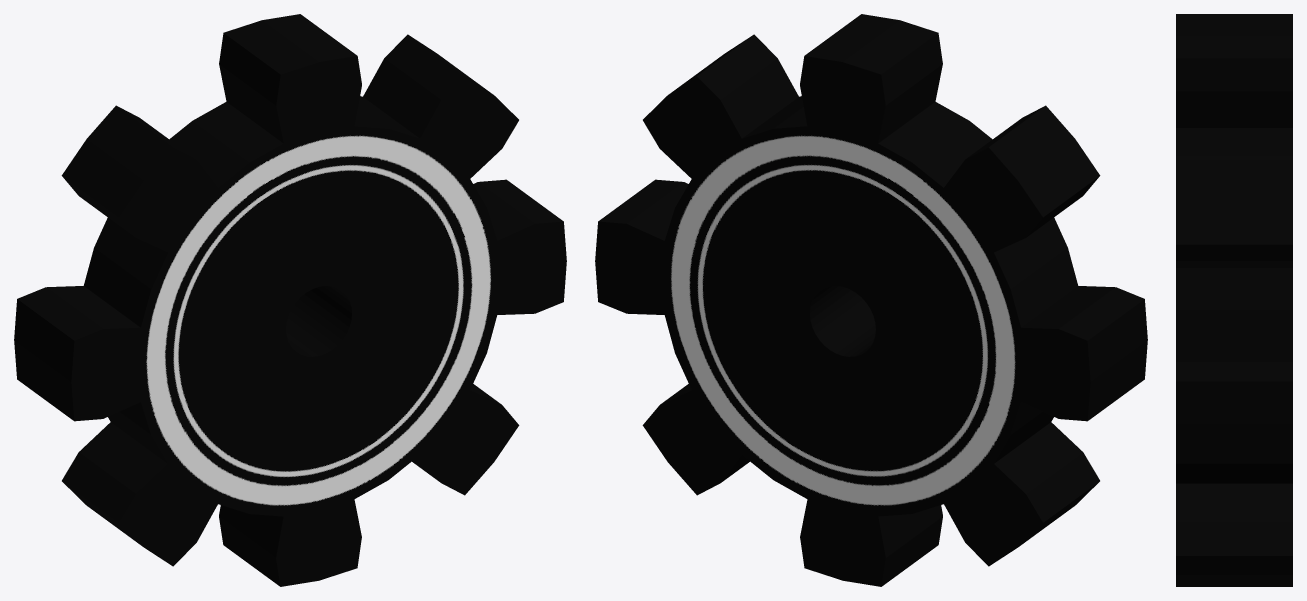
Rendered from Gear_M.obj.
The picture shows the model from 3 angles, left to right: view 1: azimuth 30°, elevation 25°; view 2: azimuth 150°, elevation 25°; view 3: azimuth 270°, elevation 25°; orthographic projection. The views are drawn at different scales.
Visible parts, largest first — view 1: Gear_M; view 2: Gear_M; view 3: Gear_M.
Boxes of the visible parts, x1,y1,x2,y2 form: Gear_M: (14,14,566,586); Gear_M: (595,14,1147,586); Gear_M: (1176,14,1292,586).
Size of the model in its own units: 4.5 by 4.5 by 0.9.
1 material, 1 textured.
